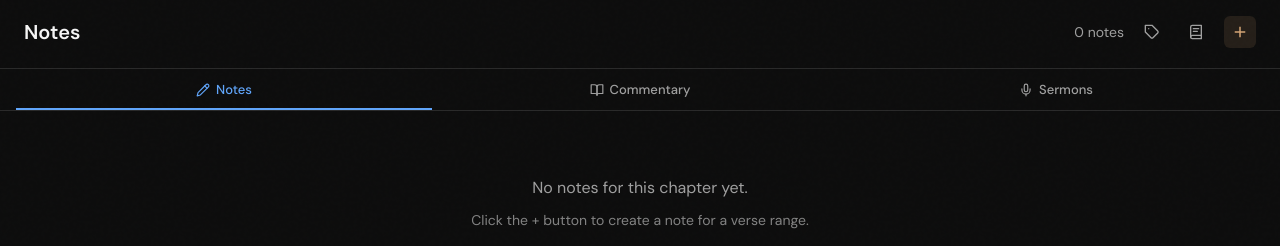
Scenario: NotesPanel › empty state › shows empty state for commentary tab
# Switch to commentary tab
Click the button "Commentary" at (640, 90), box 432,69 -> 848,110
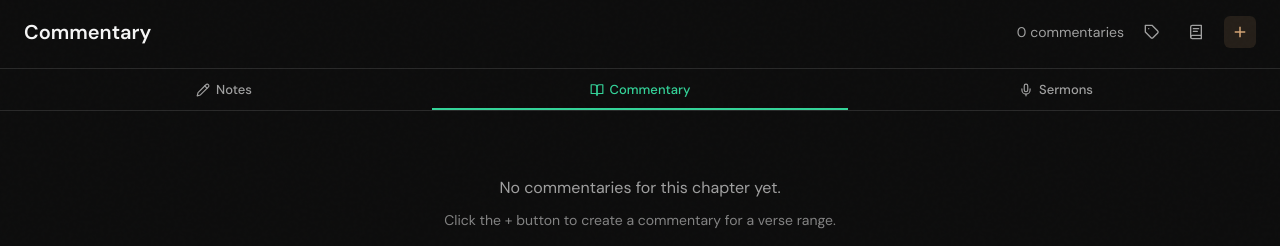
expect the text "No commentaries for this chapter yet." is shown: met, box 499,177 -> 781,198
